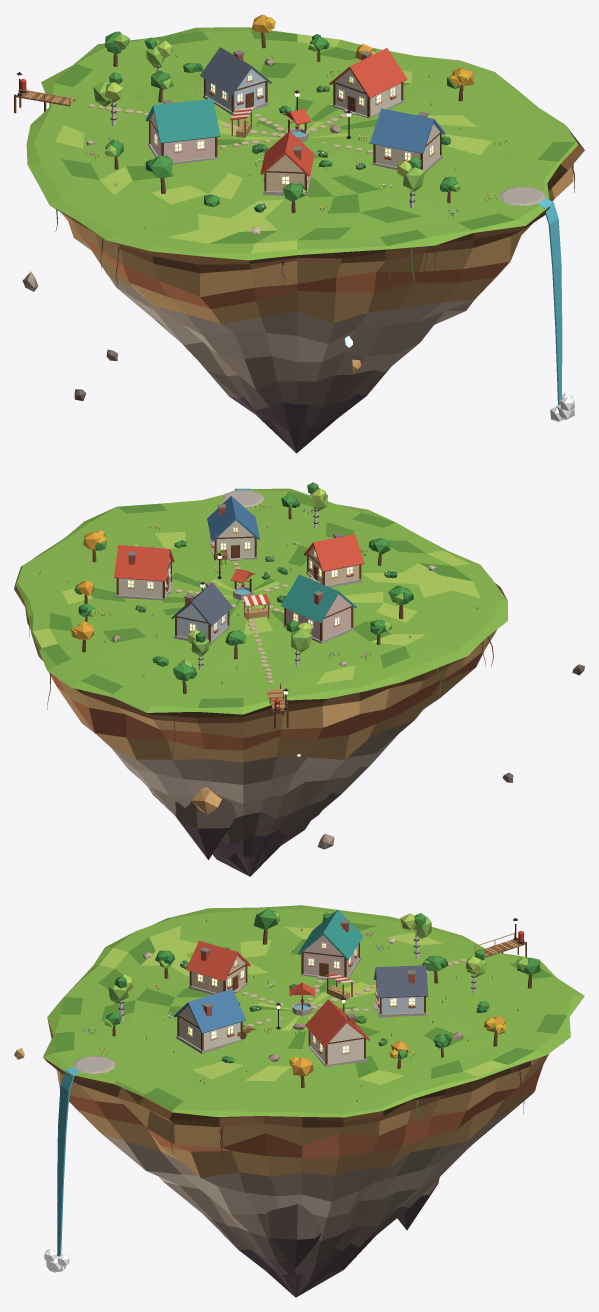
The model's file is island_village.glb.
3 views of the same model, one above another, from view 1: azimuth 30°, elevation 25°; view 2: azimuth 150°, elevation 25°; view 3: azimuth 270°, elevation 25° (orthographic). The views are drawn at different scales.
Parts seen in each view (by area): view 1: Island-col, Dressing, Waterfall, WaterfallPond; view 2: Island-col, Dressing, Debris; view 3: Island-col, Dressing, Waterfall, WaterfallPond.
Part boxes in pixels (x1,y1,x2,y2): Island-col: (26,27,584,453); Dressing: (14,14,506,234); Waterfall: (537,198,562,404); WaterfallPond: (499,186,545,206); Island-col: (14,488,507,876); Dressing: (38,482,478,728); Debris: (191,664,584,849); Island-col: (43,905,584,1297); Dressing: (83,909,540,1102); Waterfall: (57,1067,79,1256); WaterfallPond: (73,1055,114,1074).
Size of what is drawn, in the model's own units: 79.05 by 53.97 by 83.62.
